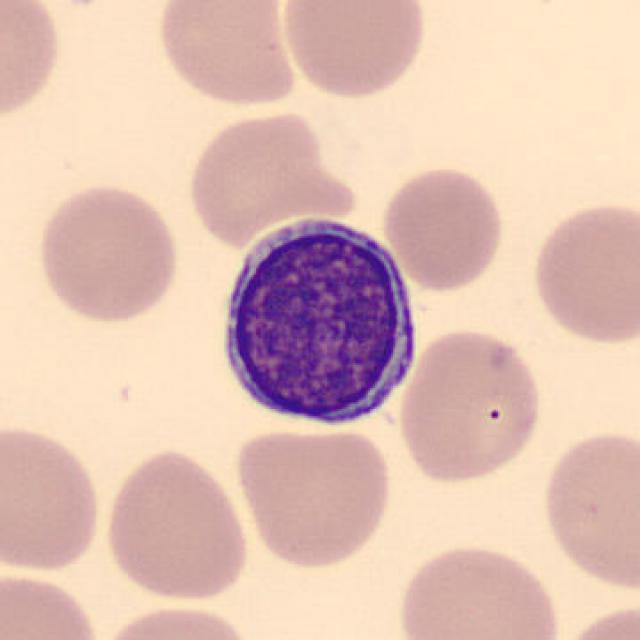Lymphocyte: (205, 208, 427, 436)
RBC: (395, 325, 546, 487), (102, 443, 253, 603), (233, 422, 395, 570), (181, 101, 336, 252), (34, 180, 183, 328), (391, 537, 563, 640), (535, 425, 640, 592), (377, 164, 508, 294), (527, 196, 637, 347), (0, 420, 105, 575), (155, 2, 299, 109), (277, 0, 428, 102), (0, 0, 69, 128), (0, 567, 101, 640), (96, 603, 258, 640), (551, 601, 638, 640)
